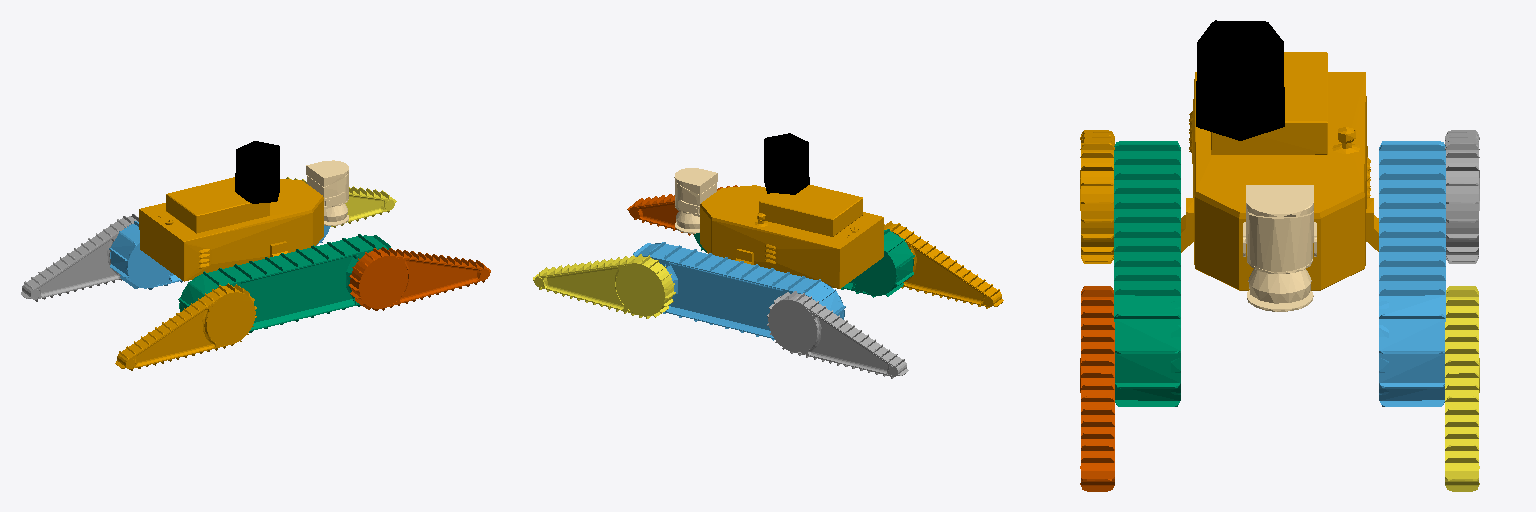
URDF robot description (NIFTi):
<?xml version="1.0"?>
<robot name="NIFTi">
    <link name="base_link">
        <visual>
            <origin xyz="0 0 -0.0705" rpy="1.5707963267 0 1.5707963267" />
            <geometry>
                <mesh scale="0.115 0.115 0.115"
                    filename="package://nifti_robot_description/old_model/body.dae"/>
            </geometry>
        </visual>
    </link>

    <link name="left_track">
        <visual>
            <origin xyz="0 0 -0.0705" rpy="1.5707963267 0 1.5707963267" />
            <geometry>
                <mesh scale="-0.115 0.115 0.115"
                    filename="package://nifti_robot_description/old_model/bogie.dae"/>
            </geometry>
        </visual>
    </link>
    <joint name="left_track_j" type="revolute">
        <parent link="base_link"/>
        <child link="left_track"/>
        <origin xyz="0 0.1985 0"/>
        <axis xyz="0 1 0"/>
        <limit lower="-0.7" upper="0.7" effort="0" velocity="0" />
    </joint>

    <link name="right_track">
        <visual>
            <origin xyz="0 0 -0.0705" rpy="1.5707963267 0 1.5707963267" />
            <geometry>
                <mesh scale="0.115 0.115 0.115"
                    filename="package://nifti_robot_description/old_model/bogie.dae"/>
            </geometry>
        </visual>    
    </link>
    <joint name="right_track_j" type="revolute">
        <parent link="base_link"/>
        <child link="right_track"/>
        <origin xyz="0 -0.1985 0"/>
        <axis xyz="0 1 0"/>
        <limit lower="-0.7" upper="0.7" effort="0" velocity="0" />
    </joint>

    <link name="front_left_flipper">
        <visual>
            <origin xyz="0 0 0" rpy="3.3 0 1.5707963267" />
            <geometry>
                <mesh scale="0.115 0.115 0.115"
                    filename="package://nifti_robot_description/old_model/flipper.dae"/>
            </geometry>
        </visual>
    </link>
    <joint name="front_left_flipper_j" type="continuous">
        <parent link="left_track"/>
        <child link="front_left_flipper"/>
        <origin xyz="0.25 0.0735 0.0195" rpy="0 0.1937 0"/>
        <axis xyz="0 1 0"/>
    </joint>
    <link name="front_left_flipper_end_point"/>
    <joint name="front_left_flipper_end_point_j" type="fixed">
        <parent link="front_left_flipper"/>
        <child link="front_left_flipper_end_point"/>
        <origin xyz="0.3476 0 0" rpy="0 0.1937 0"/>
    </joint>

    <link name="front_right_flipper">
        <visual>
            <origin xyz="0 0 0" rpy="3.3 0 1.5707963267" />
            <geometry>
                <mesh scale="-0.115 0.115 0.115"
                    filename="package://nifti_robot_description/old_model/flipper.dae"/>
            </geometry>
        </visual>  
    </link>
    <joint name="front_right_flipper_j" type="continuous">
        <parent link="right_track"/>
        <child link="front_right_flipper"/>
        <origin xyz="0.25 -0.0735 0.0195" rpy="0 0.1937 0"/>
        <axis xyz="0 1 0"/>
    </joint>
    <link name="front_right_flipper_end_point"/>
    <joint name="front_right_flipper_end_point_j" type="fixed">
    <parent link="front_right_flipper"/>
    <child link="front_right_flipper_end_point"/>
    <origin xyz="0.3476 0 0" rpy="0 0.1937 0"/>
    </joint>

    <link name="rear_left_flipper">
        <visual>
            <origin xyz="0 0 0" rpy="-2.95 0 1.5707963267" />
            <geometry>
                <mesh scale="0.115 0.115 0.115"
                    filename="package://nifti_robot_description/old_model/flipper.dae"/>
            </geometry>
        </visual>
    </link>
    <joint name="rear_left_flipper_j" type="continuous">
        <parent link="left_track"/>
        <child link="rear_left_flipper"/>
        <origin xyz="-0.25 0.0735 0.0195" rpy="0 2.9479 0"/>
        <axis xyz="0 1 0"/>
    </joint>

    <link name="rear_right_flipper">
        <visual>
            <origin xyz="0 0 0" rpy="-2.95 0 1.5707963267" />
            <geometry>
                <mesh scale="-0.115 0.115 0.115"
                    filename="package://nifti_robot_description/old_model/flipper.dae"/>
            </geometry>
        </visual>
    </link>
    <joint name="rear_right_flipper_j" type="continuous">
        <parent link="right_track"/>
        <child link="rear_right_flipper"/>
        <origin xyz="-0.25 -0.0735 0.0195" rpy="0 2.9479 0"/>
        <axis xyz="0 1 0"/>
    </joint>

    <link name="laser">
        <visual>
            <origin xyz="0 0 0" rpy="1.5707963267 0 -1.5707963267" />
            <geometry>
                <mesh scale="0.001 0.001 0.001"
                    filename="package://nifti_robot_description/old_model/laser.dae"/>
            </geometry>
            <material name="laser_color">
                <color rgba="1 0.9 0.7 1"/>
            </material>
        </visual>  
    </link>
    <joint name="laser_j" type="revolute">
        <parent link="base_link"/>
        <child link="laser"/>
        <origin xyz="0.2502 0.0 0.1427" rpy="3.1415927 0 0"/>
        <axis xyz="1 0 0"/>
        <limit lower="-2.3561945" upper="2.3561945" effort="0" velocity="0" />
    </joint>

    <link name="imu"/>
    <joint name="imu_j" type="fixed">
        <parent link="base_link"/>
        <child link="imu"/>
        <origin xyz="0 0 0.1694" rpy="0 0 -1.5707963267"/>
    </joint>

    <link name="omnicam">
        <visual>
            <origin xyz="-0.070 0.068 -0.3412" rpy="1.5707963267 0 0" />
            <geometry>
                <mesh scale="0.115 0.115 0.115"
                    filename="package://nifti_robot_description/old_model/omnicam.stl"/>
            </geometry>
            <material name="omnicam_color">
                <color rgba="0 0 0 1"/>
            </material>
        </visual>  
    </link>
  <joint name="omnicam_j" type="fixed">
    <parent link="rear_right_box"/>
    <child link="omnicam"/>
    <origin rpy="0 0 -0.6283185307179586" xyz="0.36 0.07 0.135"/>
  </joint>

  <link name="rear_right_box"/>
  <joint name="rear_right_box_j" type="fixed">
    <parent link="base_link"/>
    <child link="rear_right_box"/>
    <origin rpy="0 0 0" xyz="-0.379 -0.1265 0.185"/>
  </joint>
</robot>

--- Facts derived from the render (not from the file) ---
3 views of the same robot in one strip: view 1: azimuth 30°, elevation 25°; view 2: azimuth 150°, elevation 25°; view 3: azimuth 270°, elevation 25° (orthographic).
Model NIFTi with 13 links and 12 joints (3 revolute, 4 continuous, 5 fixed), rooted at base_link, posed every joint at zero.
Links seen in each view (by area): view 1: base_link, right_track, rear_right_flipper, front_right_flipper, rear_left_flipper, omnicam, left_track, laser, front_left_flipper; view 2: base_link, left_track, rear_left_flipper, front_left_flipper, rear_right_flipper, omnicam, right_track, laser, front_right_flipper; view 3: base_link, left_track, right_track, omnicam, laser, front_left_flipper, front_right_flipper, rear_left_flipper, rear_right_flipper.
Boxes of the visible links, x1,y1,x2,y2 form: base_link: [139, 177, 323, 281]; right_track: [178, 234, 390, 332]; rear_right_flipper: [115, 283, 256, 370]; front_right_flipper: [348, 247, 490, 310]; rear_left_flipper: [21, 214, 138, 301]; omnicam: [235, 141, 279, 203]; left_track: [109, 221, 330, 289]; laser: [306, 160, 348, 225]; front_left_flipper: [286, 177, 396, 227]; base_link: [700, 185, 883, 288]; left_track: [633, 242, 845, 340]; rear_left_flipper: [767, 291, 908, 378]; front_left_flipper: [533, 254, 675, 318]; rear_right_flipper: [884, 221, 1003, 308]; omnicam: [764, 133, 809, 194]; right_track: [694, 229, 914, 297]; laser: [674, 168, 717, 233]; front_right_flipper: [627, 185, 737, 235]; base_link: [1181, 52, 1378, 290]; left_track: [1379, 141, 1445, 406]; right_track: [1114, 141, 1180, 406]; omnicam: [1196, 20, 1284, 140]; laser: [1243, 185, 1316, 311]; front_left_flipper: [1445, 286, 1479, 491]; front_right_flipper: [1080, 286, 1114, 491]; rear_left_flipper: [1445, 130, 1479, 263]; rear_right_flipper: [1080, 130, 1114, 263].
Bounding box of the posed robot: 1.22 × 0.5935 × 0.4747 m (x, y, z).
Meshes: 5 distinct files referenced, 9 mesh visuals loaded (1 binary STL, 4 Collada DAE).